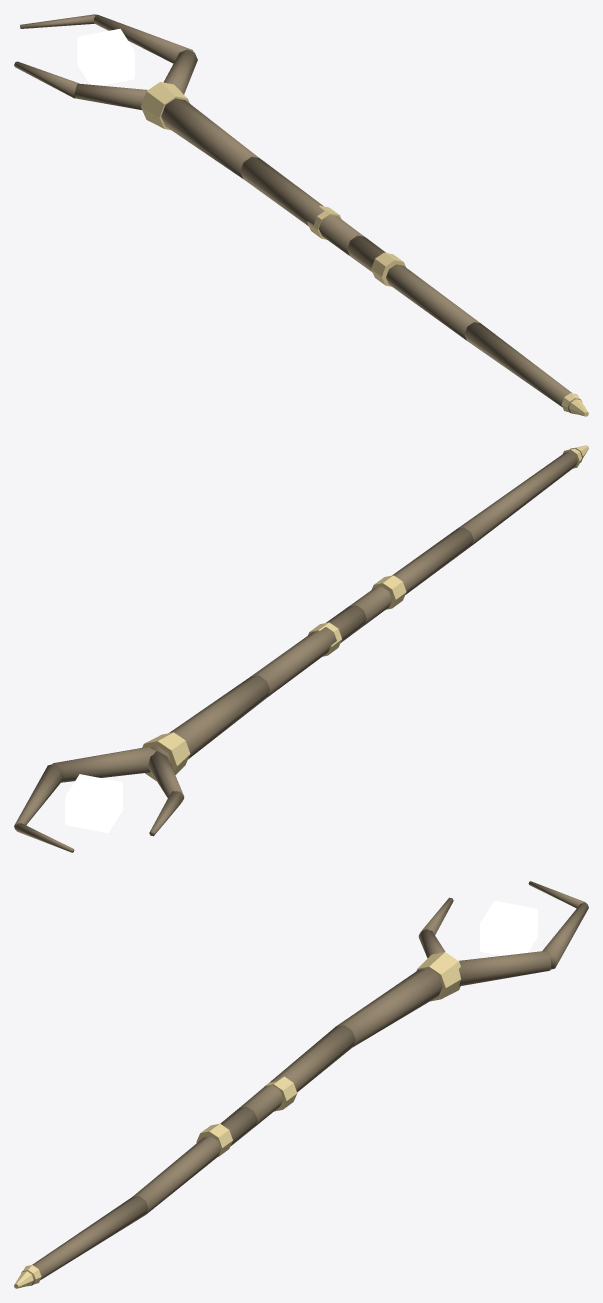
File: Druid_NatureStaff.fbx
3 views of the same model, one above another, from view 1: azimuth 30°, elevation 25°; view 2: azimuth 150°, elevation 25°; view 3: azimuth 330°, elevation 25° (orthographic).
Visible parts, largest first — view 1: DruidStaff_GnarledWood, DruidStaff_NatureHeartstone, DruidStaff_BronzeBindings; view 2: DruidStaff_GnarledWood, DruidStaff_NatureHeartstone, DruidStaff_BronzeBindings; view 3: DruidStaff_GnarledWood, DruidStaff_NatureHeartstone, DruidStaff_BronzeBindings.
Boxes of the visible parts, x1,y1,x2,y2 form: DruidStaff_GnarledWood: [14, 14, 581, 414]; DruidStaff_NatureHeartstone: [77, 28, 134, 85]; DruidStaff_BronzeBindings: [141, 82, 588, 416]; DruidStaff_GnarledWood: [14, 447, 583, 852]; DruidStaff_NatureHeartstone: [65, 774, 123, 833]; DruidStaff_BronzeBindings: [142, 445, 588, 780]; DruidStaff_GnarledWood: [21, 881, 588, 1286]; DruidStaff_NatureHeartstone: [479, 900, 537, 955]; DruidStaff_BronzeBindings: [14, 952, 461, 1288].
Bounding box in the file's own units: 0.3152 × 0.1074 × 2.02.
